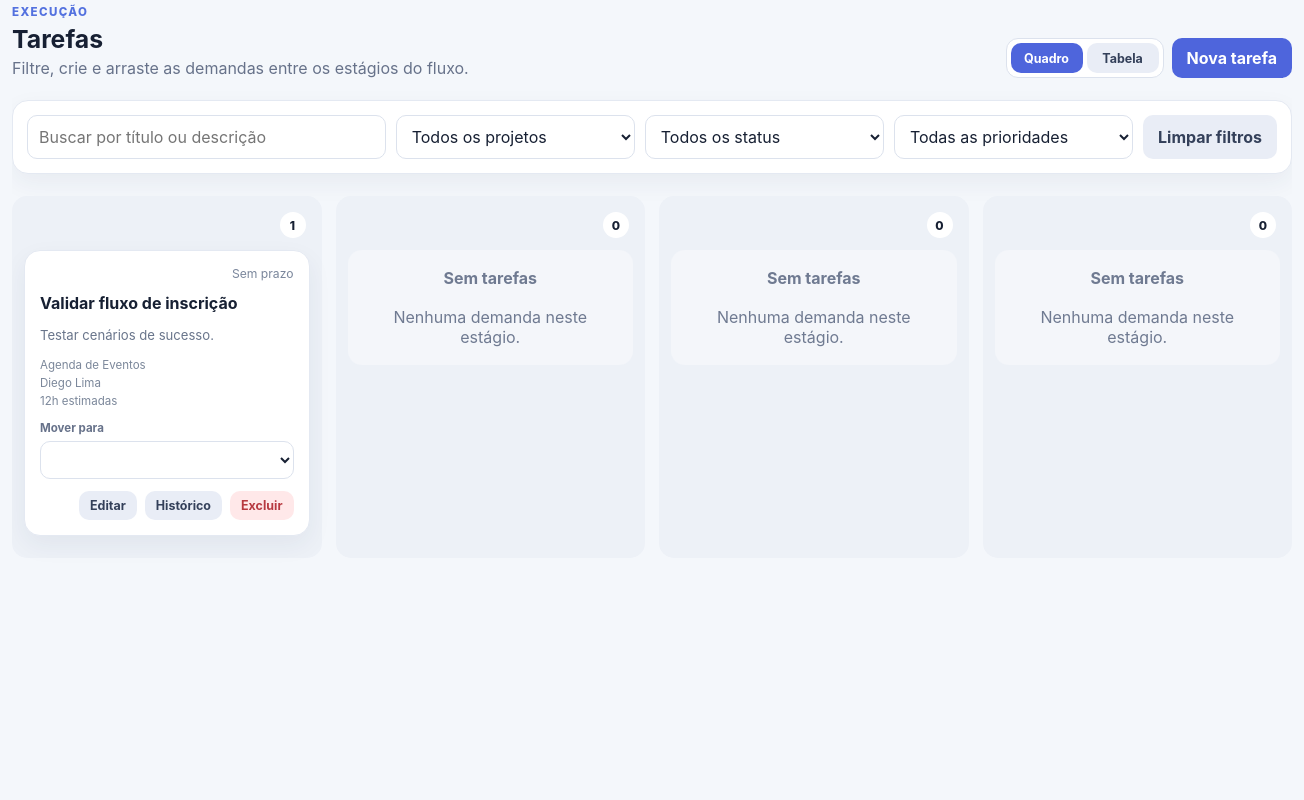
Test: TasksPage pointer dragging › reloads the board and reports the error when the move fails
The width and height of the screenshot is (1304, 800).
Press the mouse on the element titled "Arraste para mover a tarefa de estágio" at (167, 393), box 24,250 -> 310,536
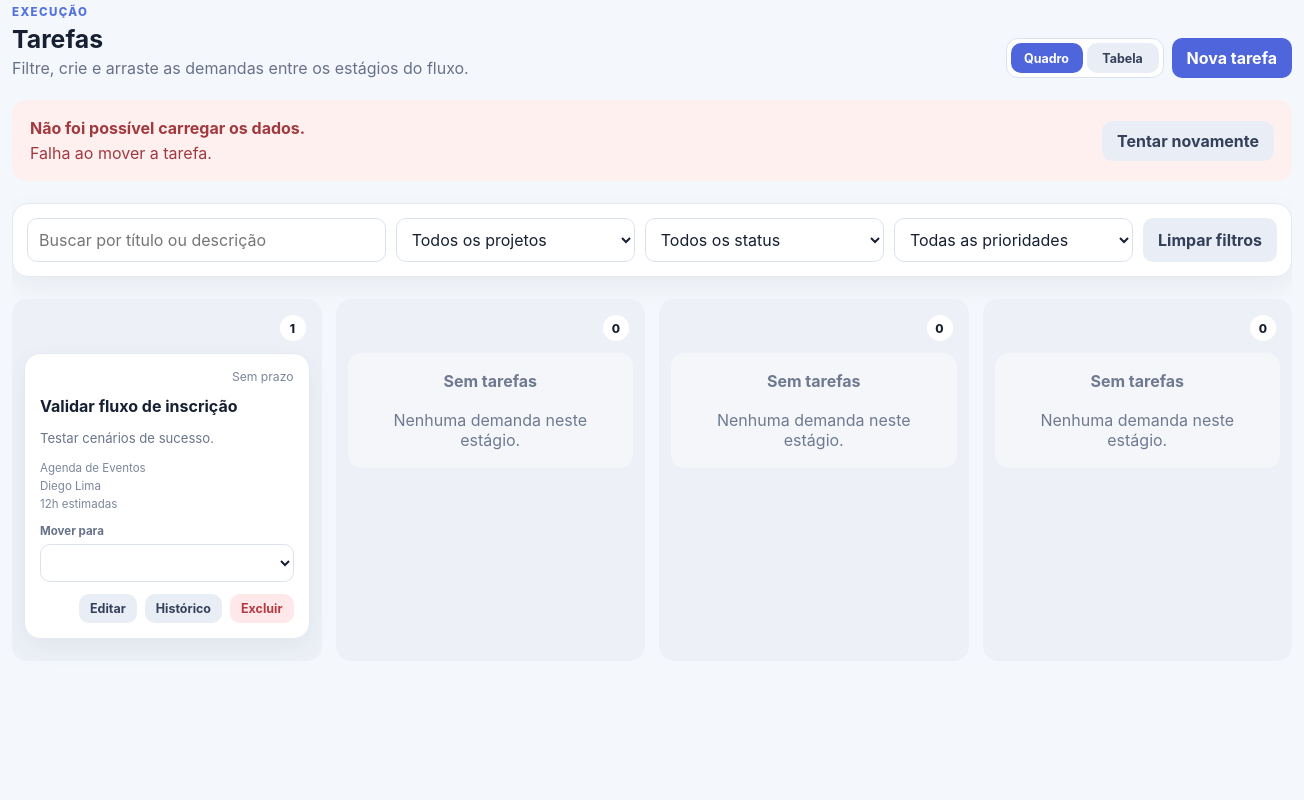
Expected: the text "Falha ao mover a tarefa." is shown, 30,143 -> 212,163
